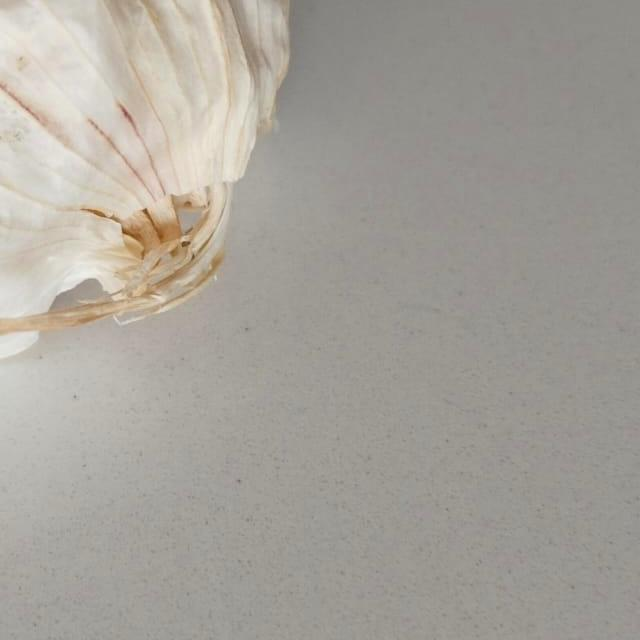garlic: (0, 0, 358, 391)
